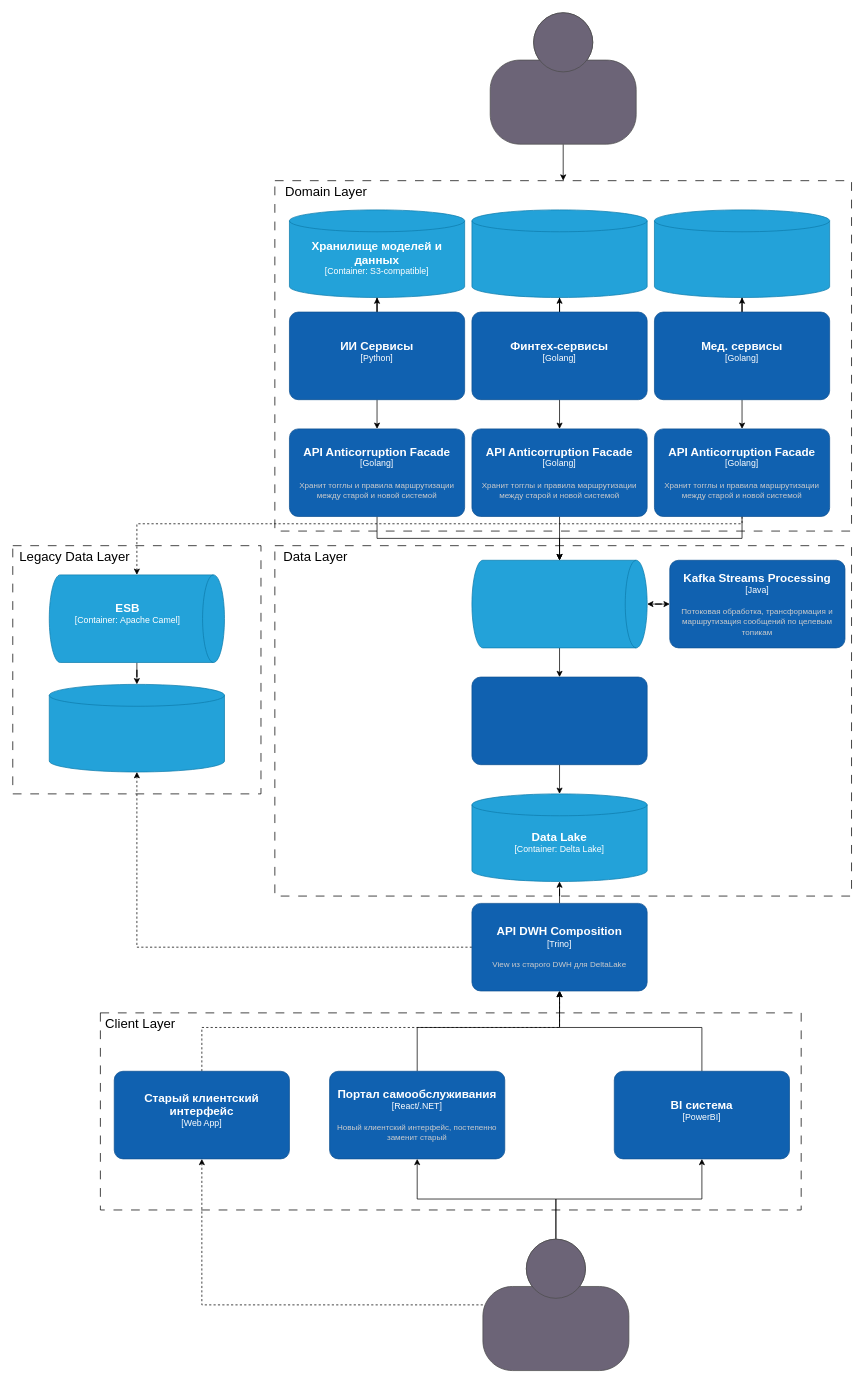
This 864x1383 diagram has some shape labels left out. Each missing label, with the centre of its shape:
"DWH [Container: SQL Server]" goes at (x=136, y=728).
"Stream Processing [Apache Spark] Потоковая обработка данных" goes at (x=559, y=720).
"Аналитик [Person]" goes at (x=555, y=1304).
"Сотрудник домена [Person] Врач, финансист и т.д." goes at (x=562, y=78).
"Хранилище мед.данных [Container: PostgreSQL]" goes at (x=742, y=253).
"Хранилище фин.данных [Container: PostgreSQL]" goes at (x=559, y=253).
"Шина событий [Container: Apache Kafka]" goes at (x=559, y=604).
